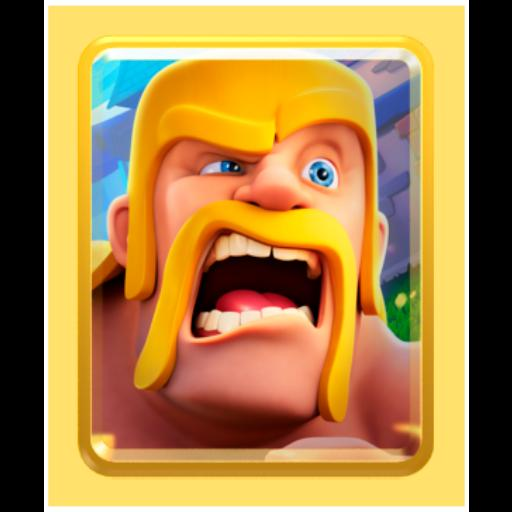barbarians: (94, 54, 412, 452)
